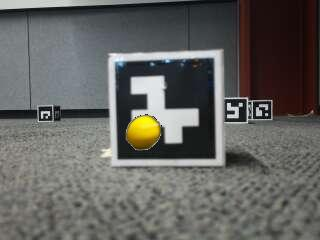lemon: (126, 117, 159, 150)
